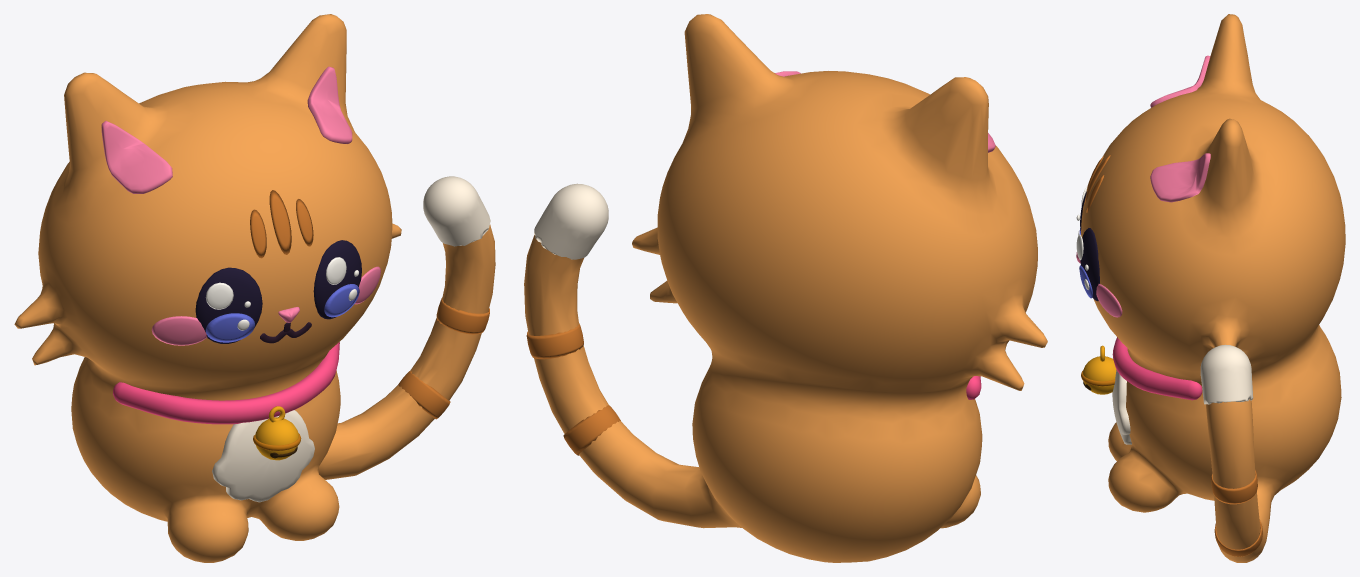
File: kitten.glb
3 views of the same model, side by side, from view 1: azimuth 30°, elevation 25°; view 2: azimuth 150°, elevation 25°; view 3: azimuth 270°, elevation 25° (orthographic). The views are drawn at different scales.
Parts seen in each view (by area): view 1: kitten_body, kitten_pink, kitten_collar, kitten_bib, kitten_stripes, kitten_eyes, kitten_tip, kitten_irises, kitten_bell, kitten_glints; view 2: kitten_body, kitten_tip, kitten_stripes; view 3: kitten_body, kitten_pink, kitten_tip, kitten_collar, kitten_stripes, kitten_bell, kitten_eyes, kitten_bib.
Boxes of the visible parts, x1=… form: kitten_body: x1=14, y1=14, x2=495, y2=562; kitten_pink: x1=101, y1=66, x2=380, y2=345; kitten_collar: x1=113, y1=342, x2=339, y2=424; kitten_bib: x1=212, y1=410, x2=314, y2=502; kitten_stripes: x1=250, y1=190, x2=489, y2=419; kitten_eyes: x1=195, y1=240, x2=361, y2=343; kitten_tip: x1=423, y1=176, x2=490, y2=246; kitten_irises: x1=205, y1=284, x2=359, y2=342; kitten_bell: x1=255, y1=406, x2=298, y2=460; kitten_glints: x1=205, y1=257, x2=358, y2=330; kitten_body: x1=524, y1=14, x2=1047, y2=562; kitten_tip: x1=534, y1=183, x2=608, y2=259; kitten_stripes: x1=526, y1=323, x2=620, y2=455; kitten_body: x1=1081, y1=14, x2=1345, y2=562; kitten_pink: x1=1076, y1=55, x2=1210, y2=317; kitten_tip: x1=1200, y1=344, x2=1253, y2=404; kitten_collar: x1=1112, y1=337, x2=1202, y2=400; kitten_stripes: x1=1084, y1=155, x2=1262, y2=556; kitten_bell: x1=1083, y1=345, x2=1116, y2=394; kitten_eyes: x1=1080, y1=191, x2=1099, y2=301; kitten_bib: x1=1112, y1=369, x2=1131, y2=444.
Size of the model in its own units: 1.16 by 1.09 by 0.63.
